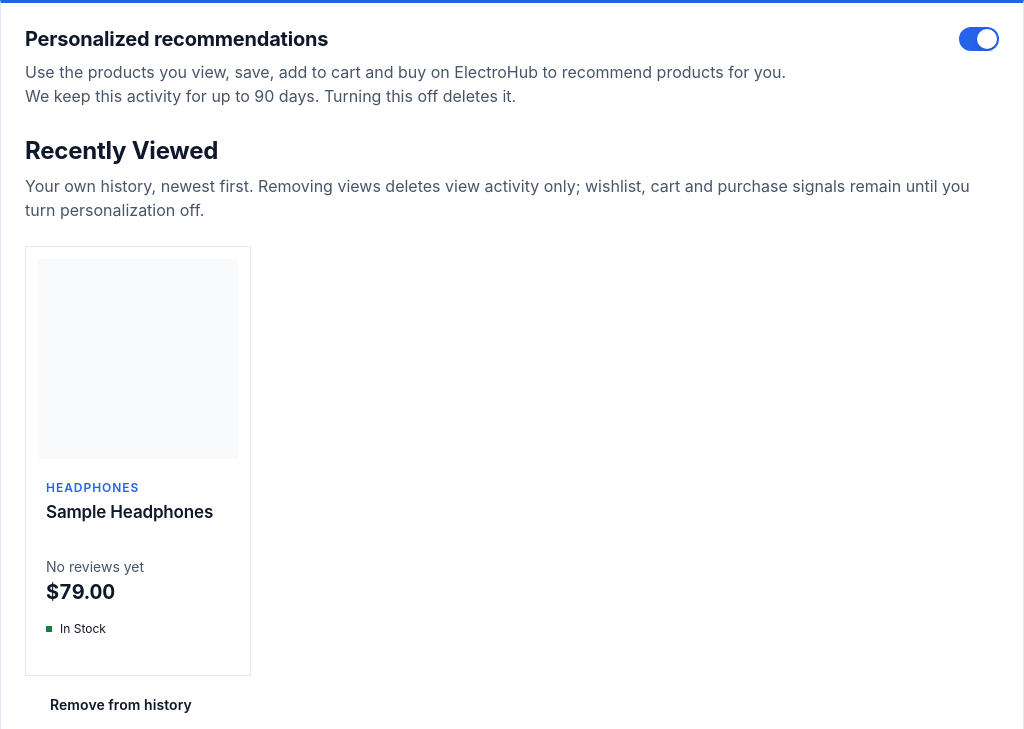
Test: PersonalizationPanel › shows per-item removal feedback only after the mutation result
What coordinates should you click on to do the following:
click the button with aria-label "Remove Sample Headphones from recently viewed"
I would click on:
 (121, 704)
Its box is [25,684,217,724].
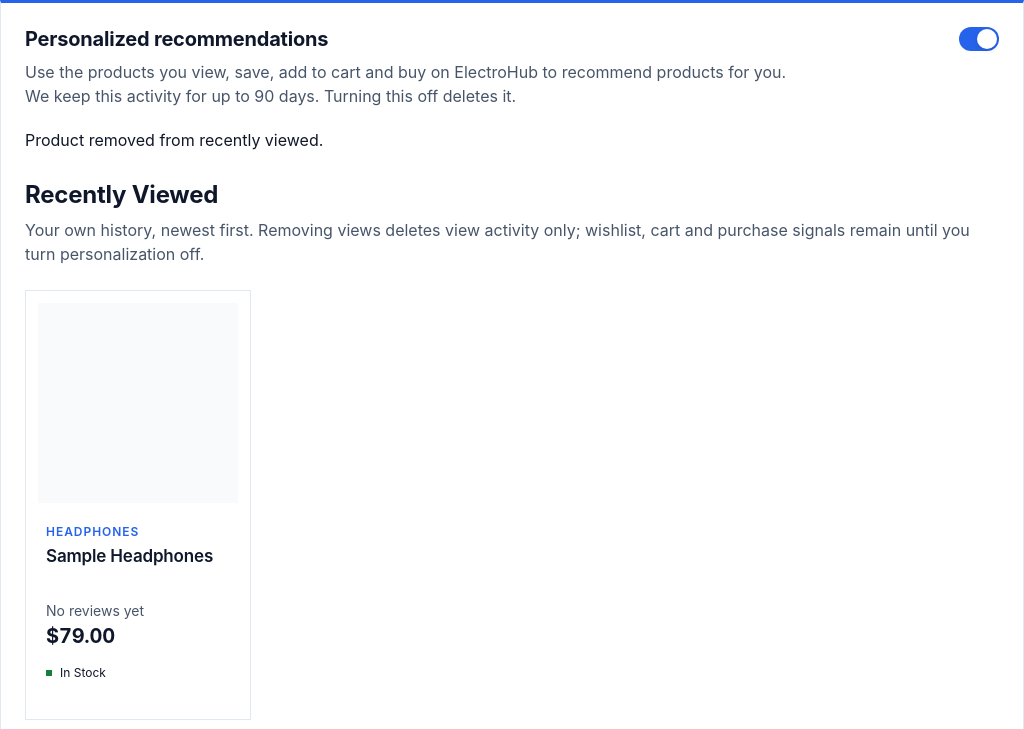
Result: the message reads "Product removed from recently viewed." at [25,130,323,150]
